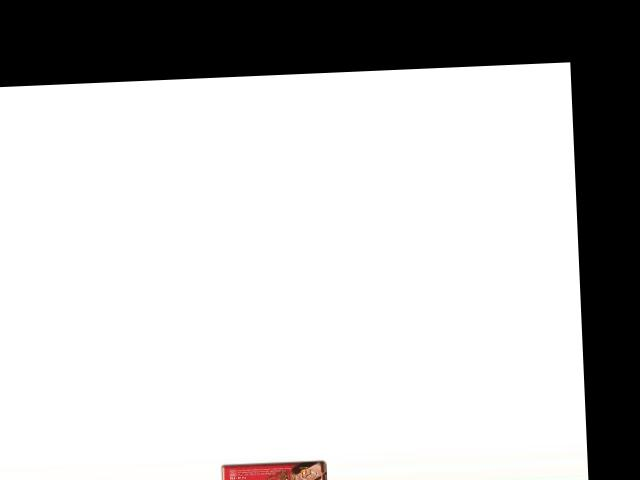chocolate: (219, 458, 329, 480)
